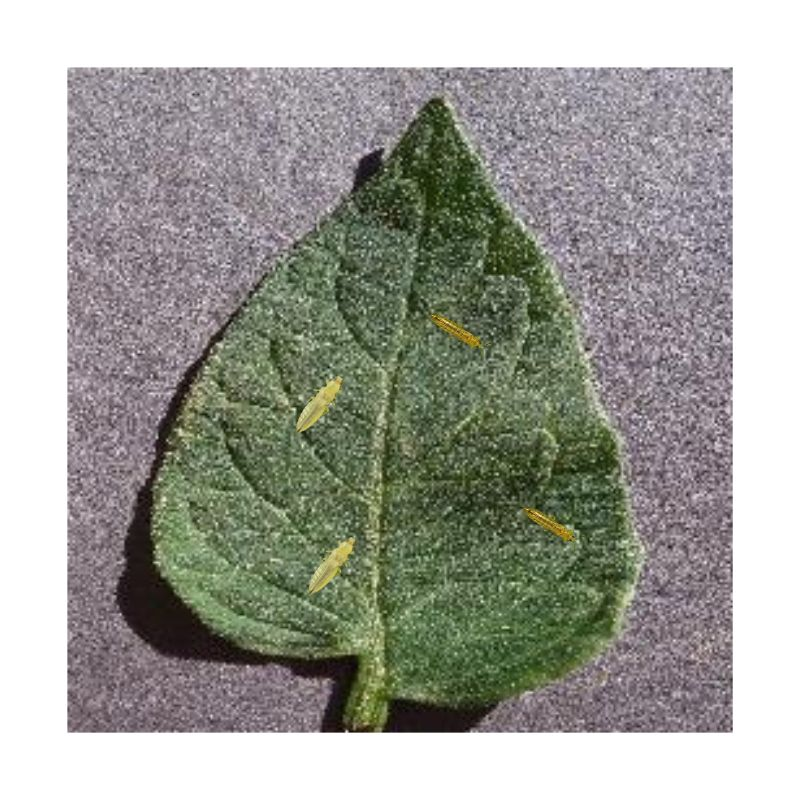thrips: (305, 532, 359, 595), (295, 373, 342, 433), (524, 502, 579, 547), (427, 311, 481, 347)
